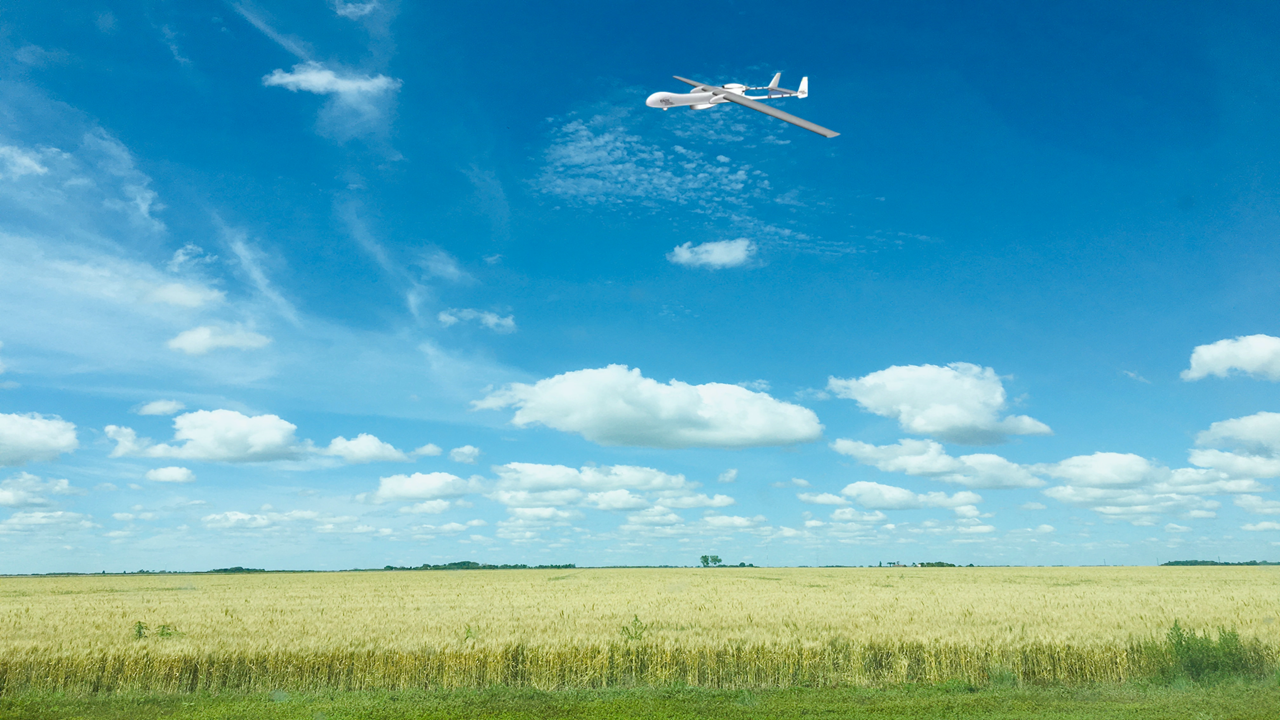military drone: (645, 72, 840, 138)
